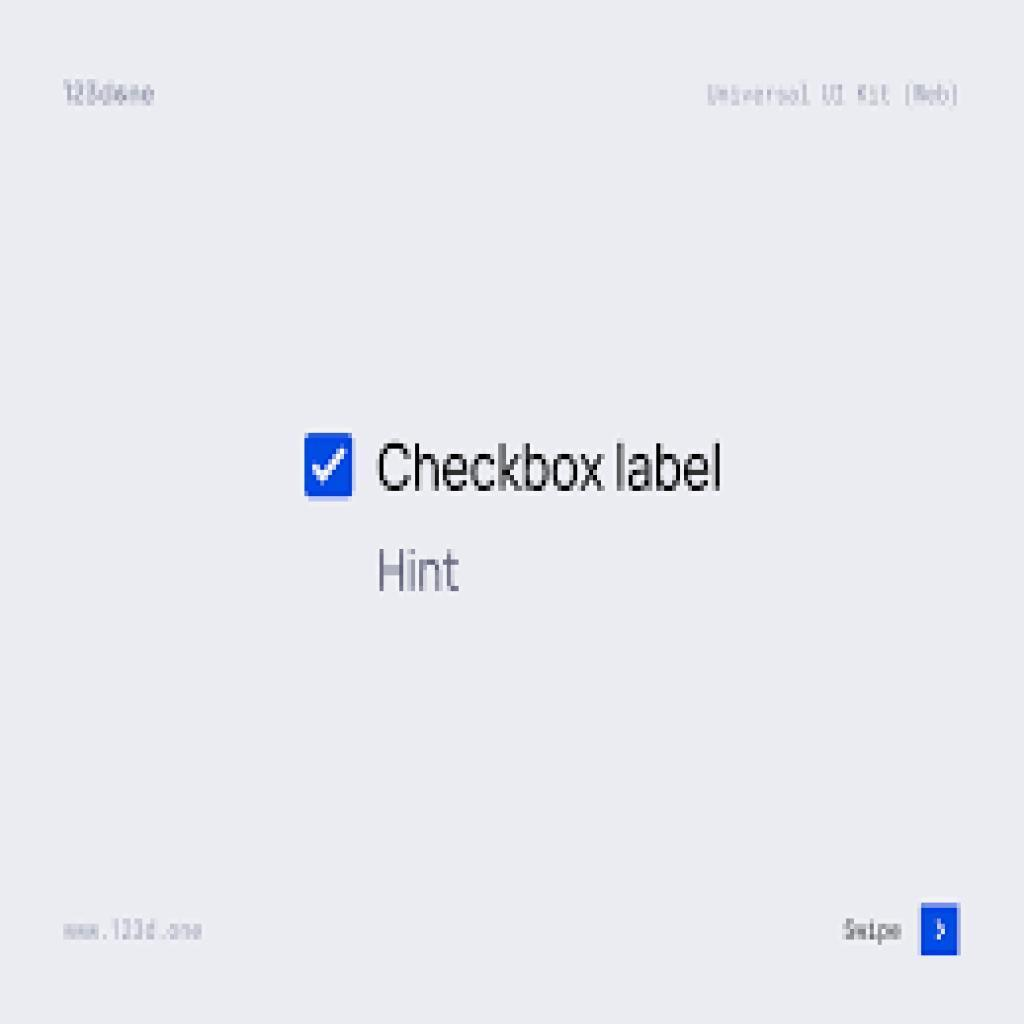checkbox: (307, 433, 354, 498)
icon: (921, 902, 961, 960)
